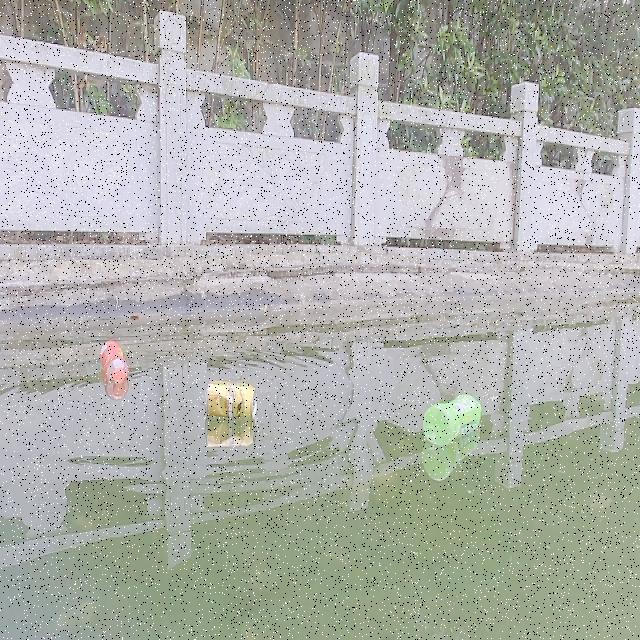bottle: (420, 389, 483, 447), (98, 339, 128, 385)
can: (204, 379, 257, 421)
